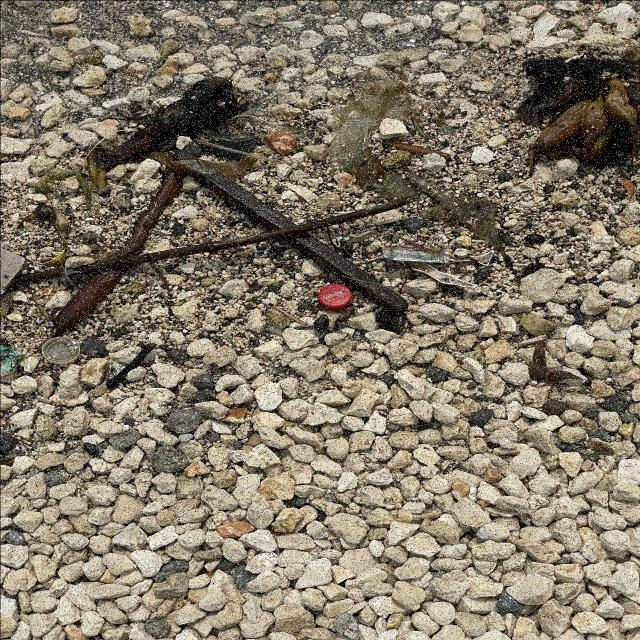plastic_waste: (318, 284, 354, 309)
